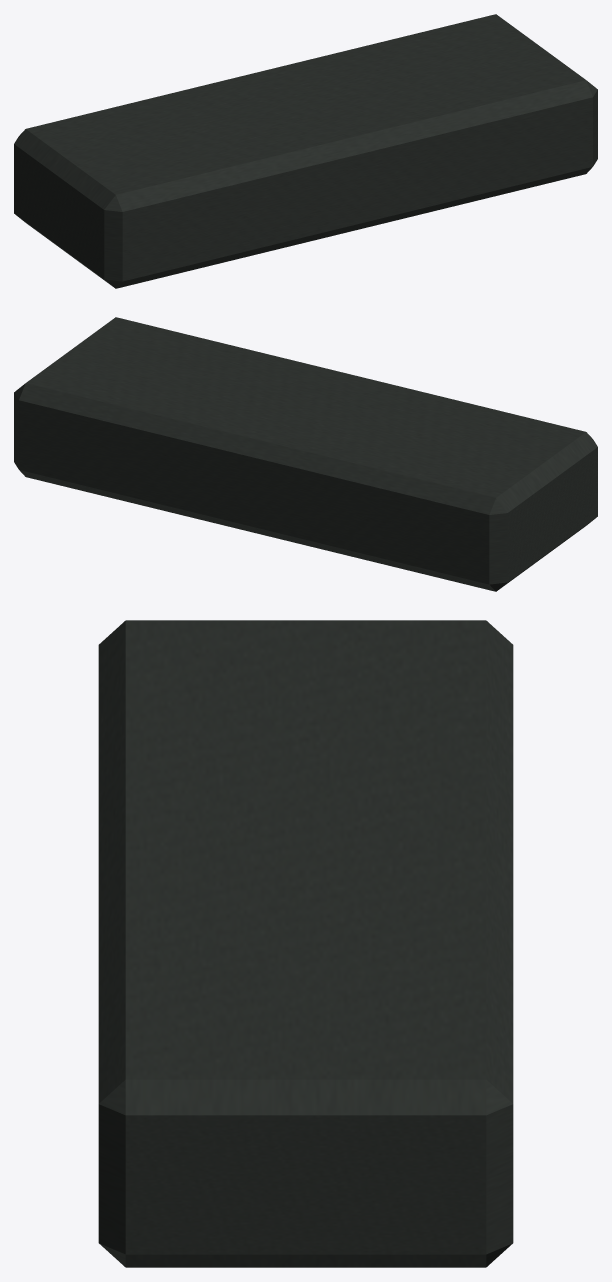
File: SharpeningStone.gltf
The picture shows the model from 3 angles, top to bottom: view 1: azimuth 30°, elevation 25°; view 2: azimuth 150°, elevation 25°; view 3: azimuth 270°, elevation 25°; orthographic projection. The views are drawn at different scales.
Visible parts, largest first — view 1: SharpeningStone__Body; view 2: SharpeningStone__Body; view 3: SharpeningStone__Body.
Boxes of the visible parts, x1,y1,x2,y2 form: SharpeningStone__Body: (14,14,597,288); SharpeningStone__Body: (14,317,597,591); SharpeningStone__Body: (98,620,513,1267).
Bounding box in the file's own units: 0.154 × 0.028 × 0.056.
Materials: 1 (1 with a texture image).
